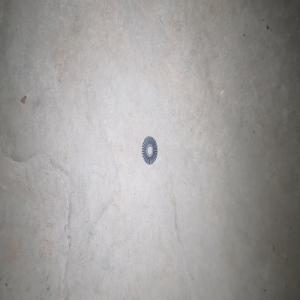Washer: (141, 136, 157, 164)
